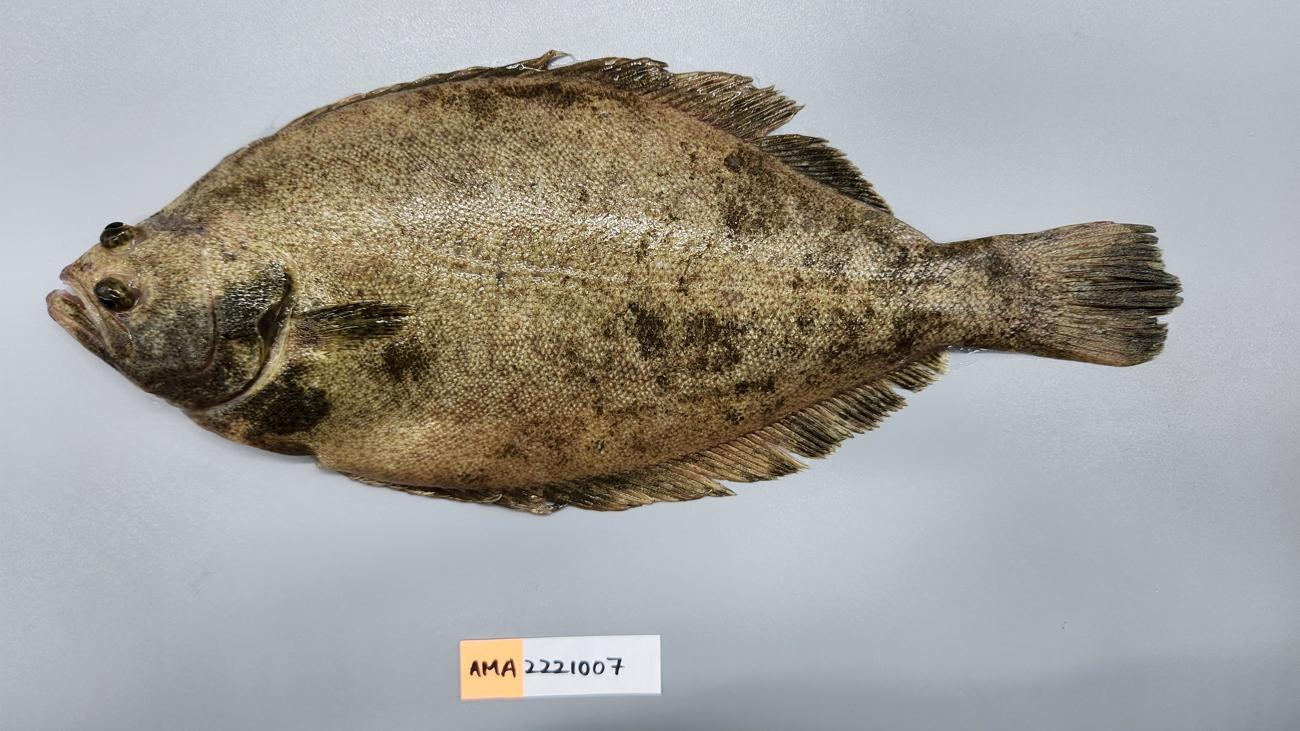MAFCH: (1043, 223, 1158, 252), (1055, 310, 1167, 335), (1055, 342, 1155, 368)
MAOUY: (45, 51, 1184, 513)
